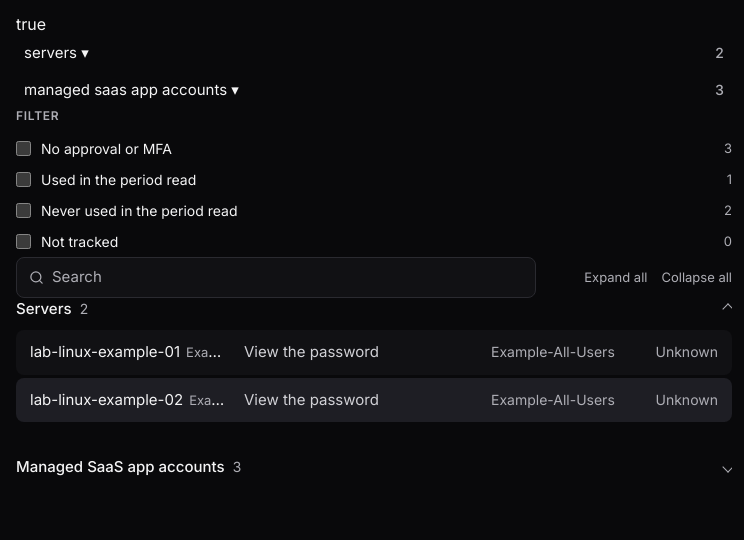
Test: resource sections (GrantsMain) › usage filters narrow to used / never used / not tracked
Click the checkbox labelled "Used in the period read 1".
click(24, 180)  # box top-left (16, 172), bottom-right (31, 187)
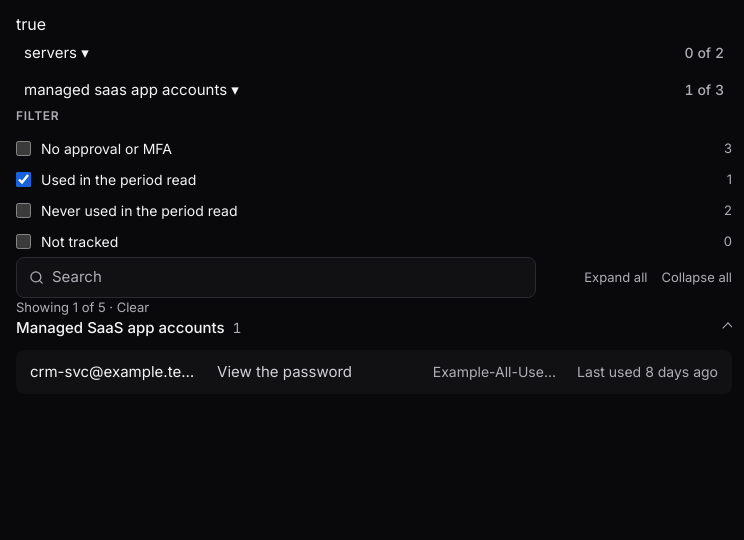
Click the checkbox labelled "Used in the period read 1".
click(24, 180)  # box top-left (16, 172), bottom-right (31, 187)
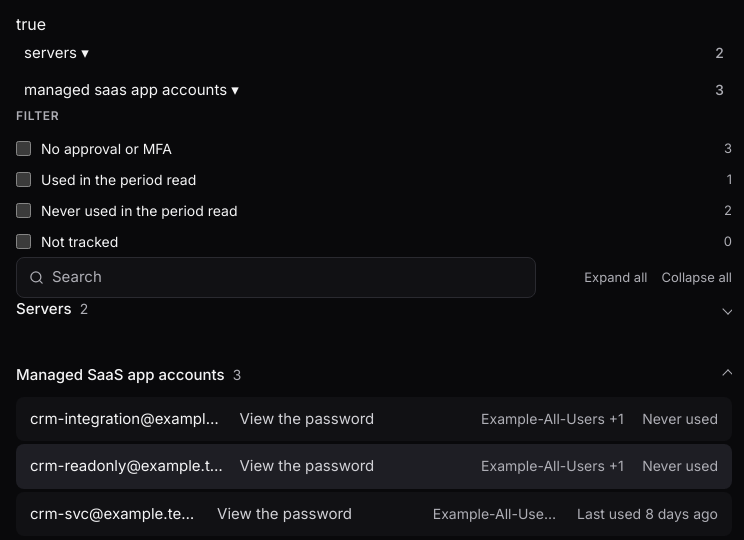
Click the checkbox labelled "Never used in the period read 2".
click(24, 210)  # box top-left (16, 203), bottom-right (31, 218)
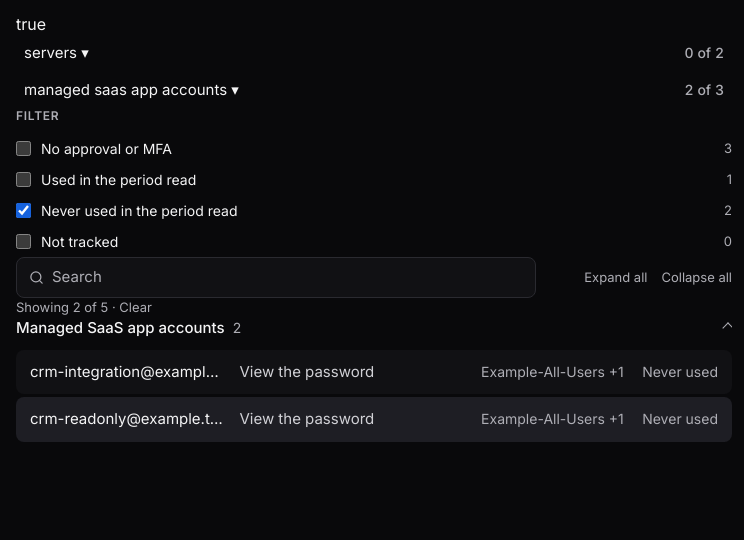
Check: the number of list items with class "xp-row" is 2, box top-left (16, 350), bottom-right (732, 394); top-left (16, 397), bottom-right (732, 442)
